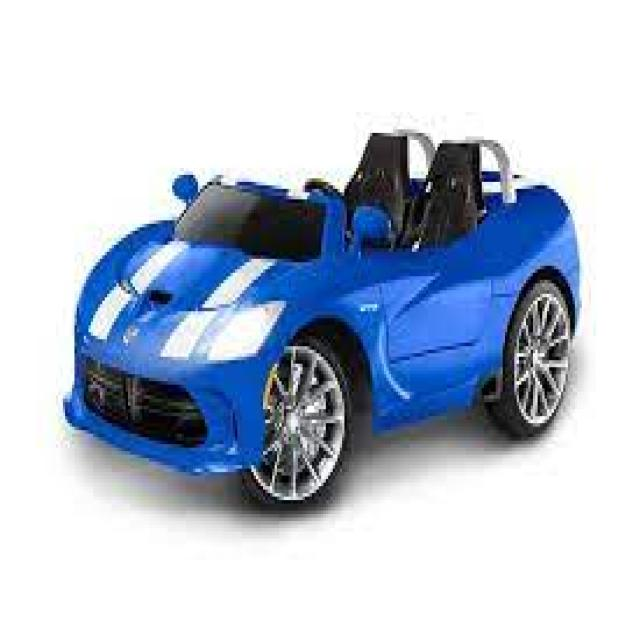Car: (60, 126, 582, 507)
